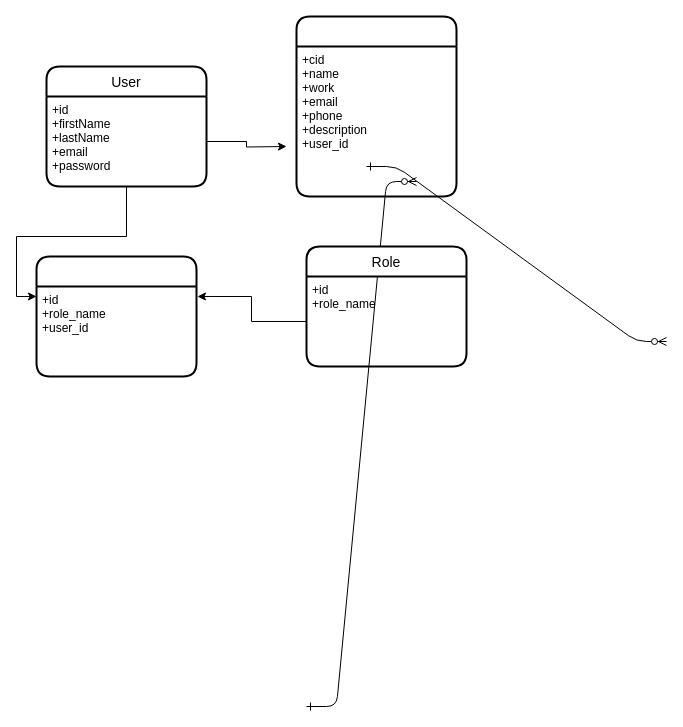
Image size: 683x727. Some labels were removed from this diagram. Here are the shapes that lost their labels. From the top down, the box of each, then its label:
(295, 15, 457, 197): Contact
(35, 255, 197, 377): user_roles
